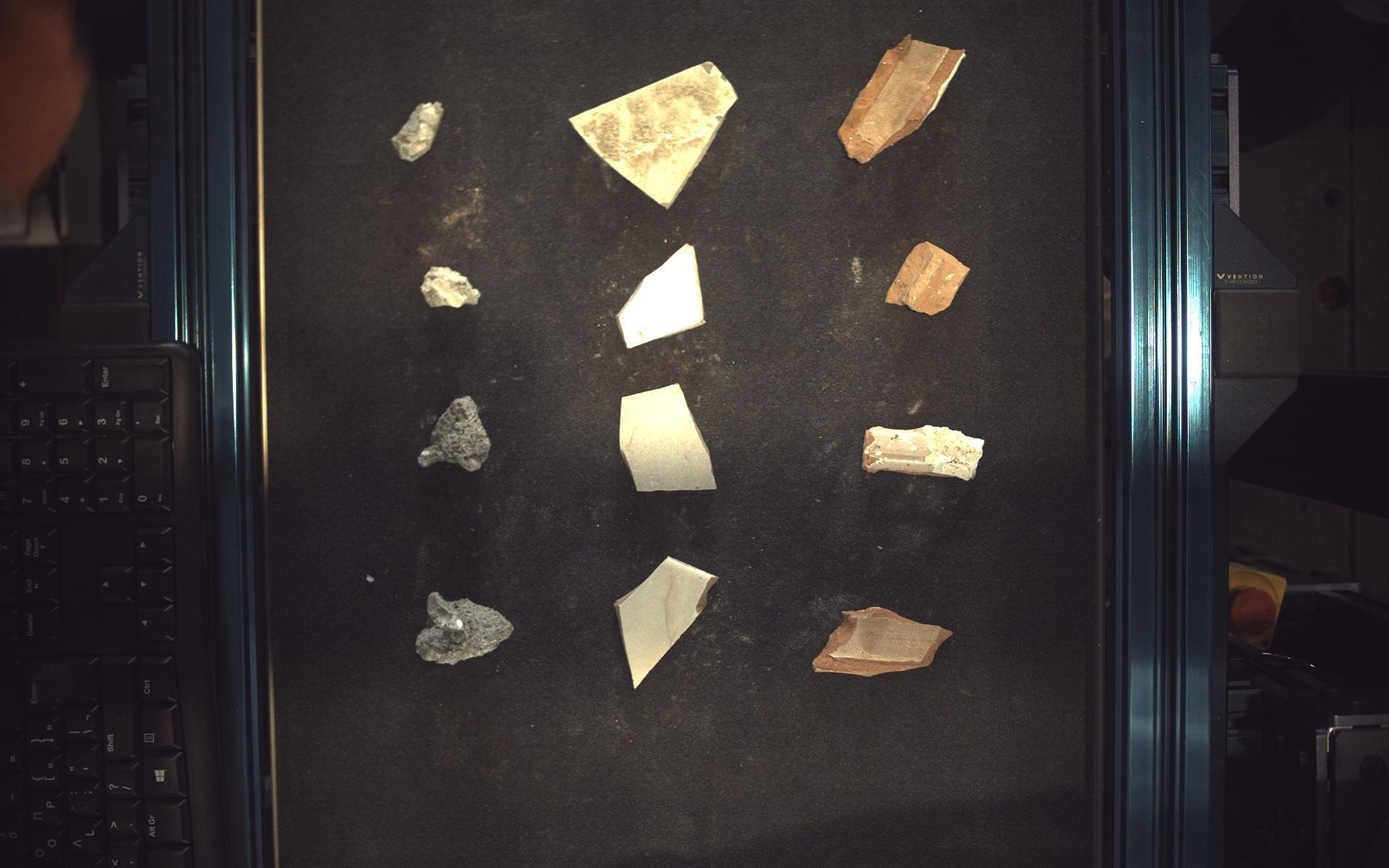brick: (840, 33, 967, 162), (815, 608, 954, 678), (865, 425, 987, 480), (888, 241, 972, 315)
concrete: (417, 593, 514, 665), (417, 396, 490, 472), (391, 101, 443, 161), (420, 267, 481, 307)
tile: (571, 60, 738, 207), (616, 558, 718, 689), (621, 383, 718, 492), (618, 244, 705, 348)
